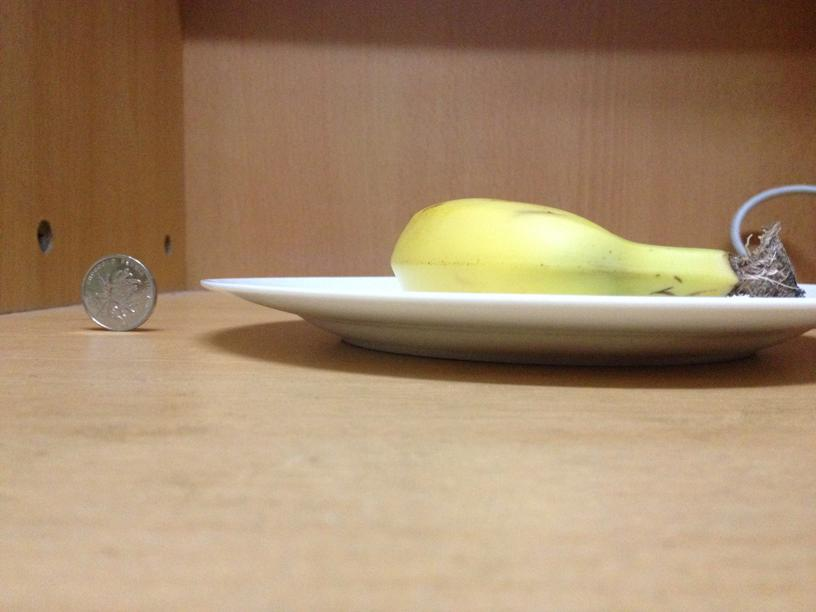banana: (384, 194, 738, 297)
coin: (82, 256, 156, 329)
